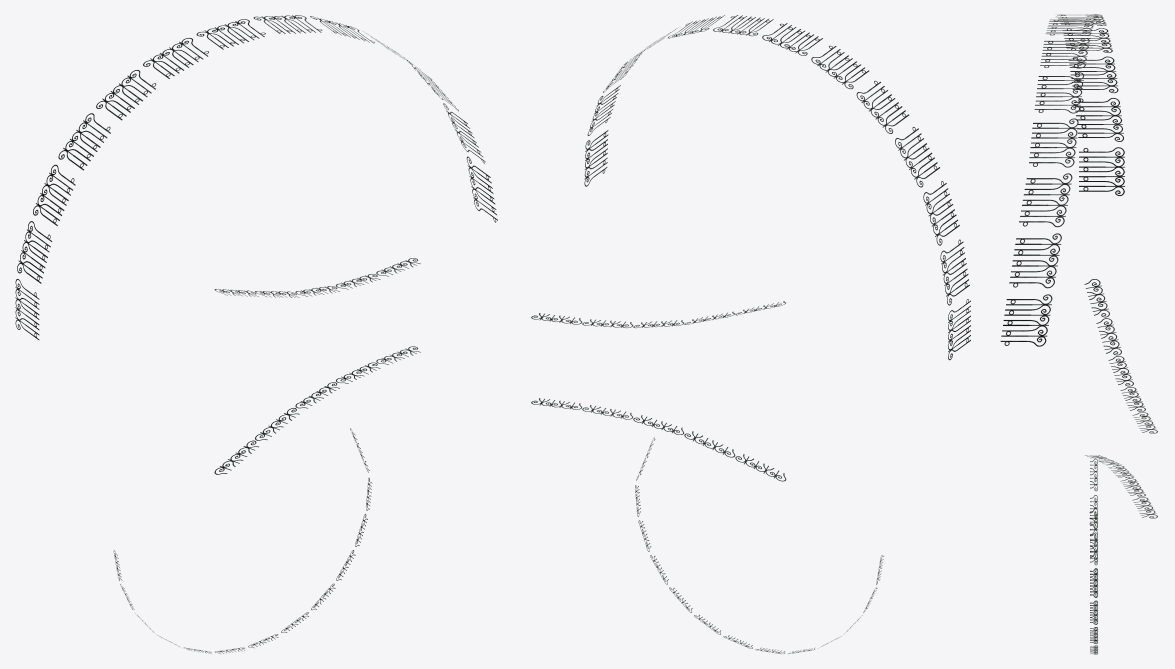
Rendered from steel_fence.glb.
The picture shows the model from 3 angles, left to right: view 1: azimuth 30°, elevation 25°; view 2: azimuth 150°, elevation 25°; view 3: azimuth 270°, elevation 25°; orthographic projection. The views are drawn at different scales.
Parts seen in each view (by area): view 1: iron-fence.png__; view 2: iron-fence.png__; view 3: iron-fence.png__.
Boxes of the visible parts, x1,y1,x2,y2 form: iron-fence.png__: (15, 15, 497, 654); iron-fence.png__: (531, 15, 970, 653); iron-fence.png__: (1000, 14, 1157, 654).
Bounding box in the file's own units: 82.54 × 119 × 28.66.
Materials: 1 (1 with a texture image).
